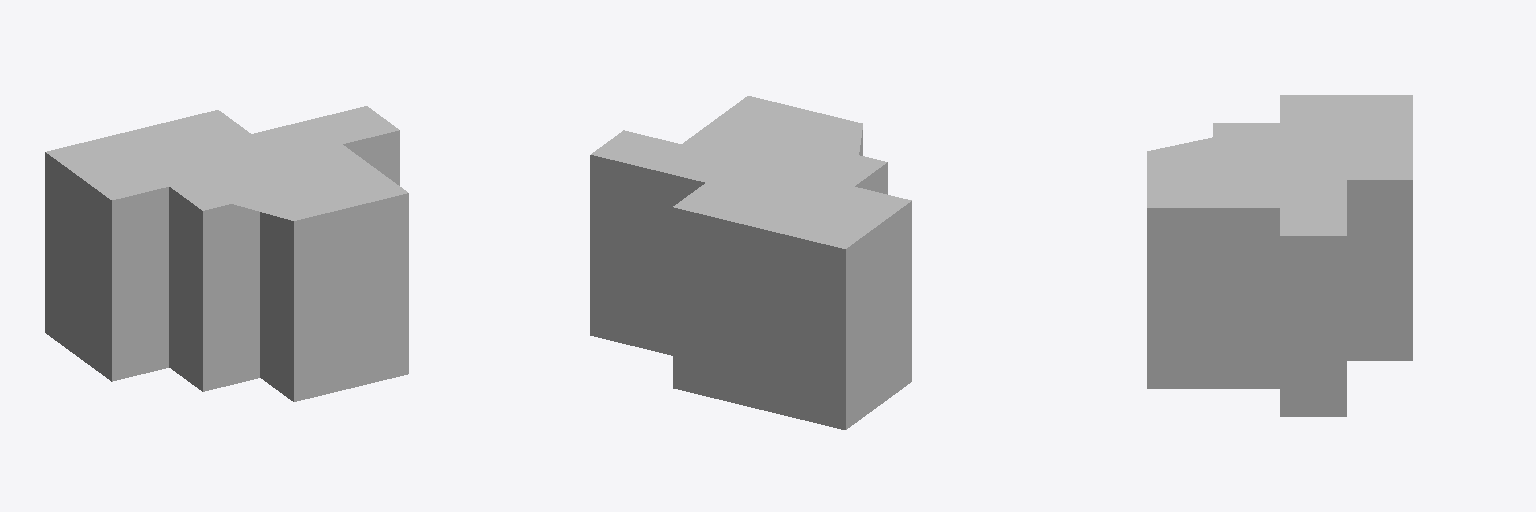
File: Bulding #2 Hitbox.obj
The picture shows the model from 3 angles: view 1: azimuth 30°, elevation 25°; view 2: azimuth 150°, elevation 25°; view 3: azimuth 270°, elevation 25°; orthographic projection.
Visible parts, largest first — view 1: BuildingBase; view 2: BuildingBase; view 3: BuildingBase.
Part boxes in pixels (left/top/right/bottom): BuildingBase: left=45, top=106, right=408, bottom=401; BuildingBase: left=590, top=96, right=911, bottom=429; BuildingBase: left=1147, top=95, right=1412, bottom=416.
Bounding box in the file's own units: 5 × 3 × 4.